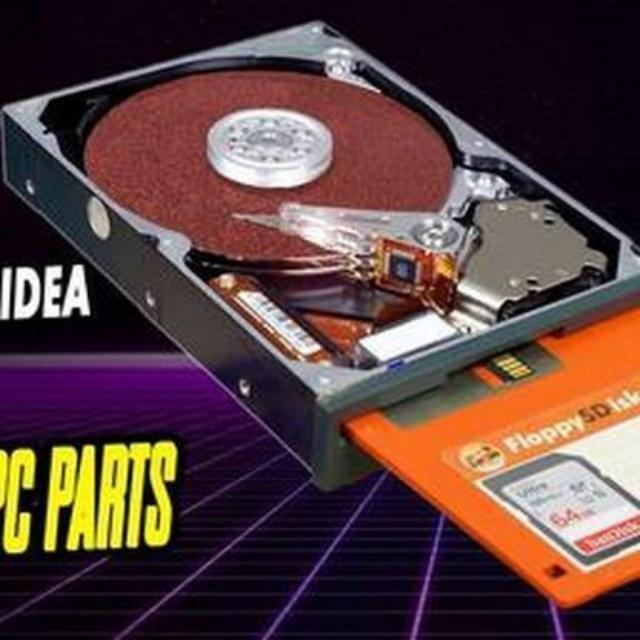DISK: (18, 19, 640, 478)
